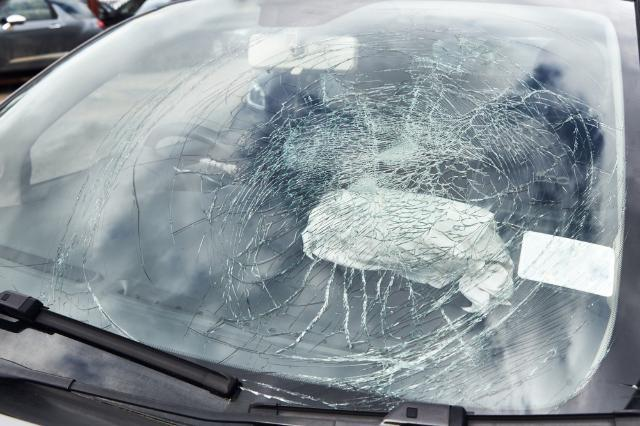glass shatter: (0, 0, 640, 416)
